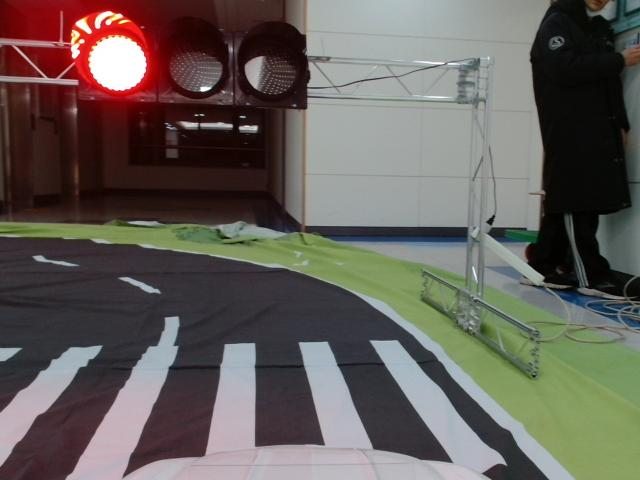crosswalk: (1, 340, 510, 480)
traffic light-red-: (72, 13, 308, 111)
